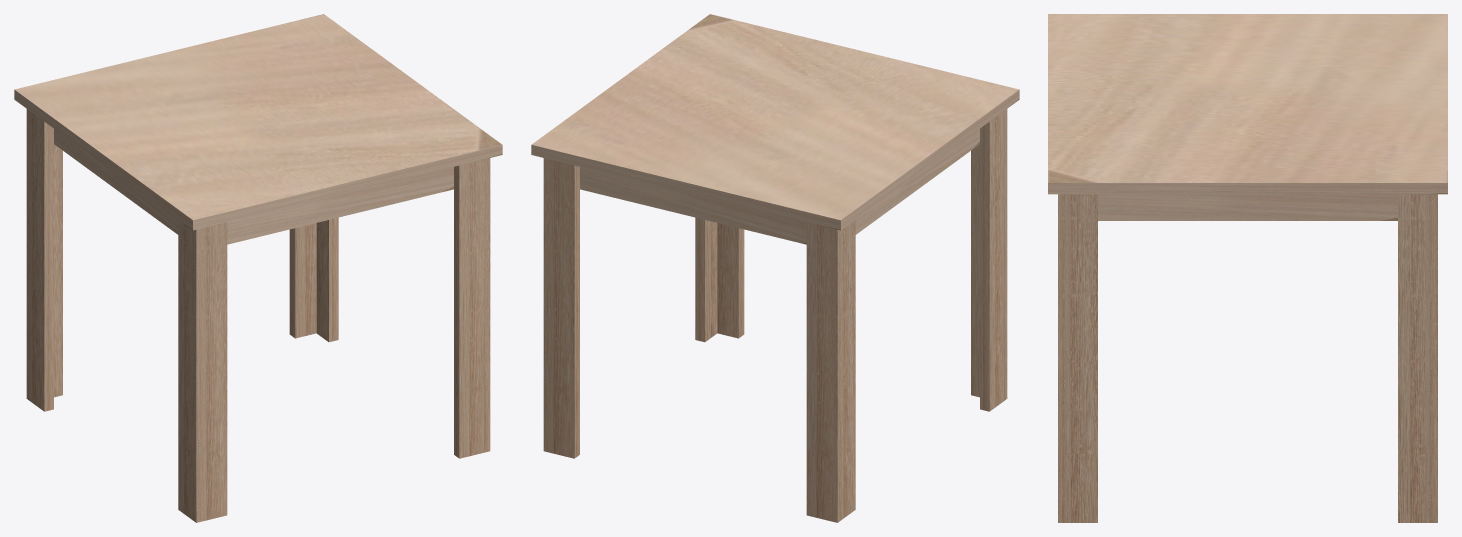
File: sto_forma.glb
3 views of the same model, side by side, from view 1: azimuth 30°, elevation 25°; view 2: azimuth 150°, elevation 25°; view 3: azimuth 270°, elevation 25° (orthographic). The views are drawn at different scales.
Visible parts, largest first — view 1: sto; view 2: sto; view 3: sto.
Part boxes in pixels (x1=…): sto: x1=14, y1=14, x2=502, y2=522; sto: x1=531, y1=14, x2=1019, y2=522; sto: x1=1048, y1=14, x2=1447, y2=522.
Size of the model in its own units: 0.8 by 0.76 by 0.8.
Materials: 2 (2 with a texture image).
